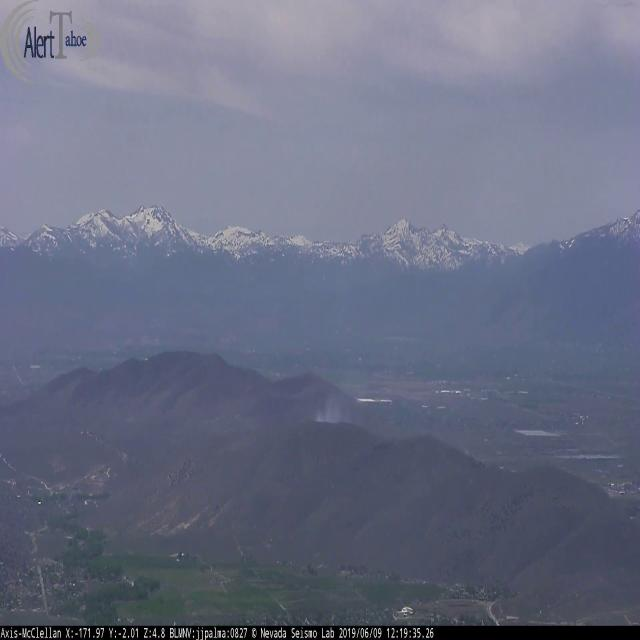smoke: (313, 359, 371, 427)
